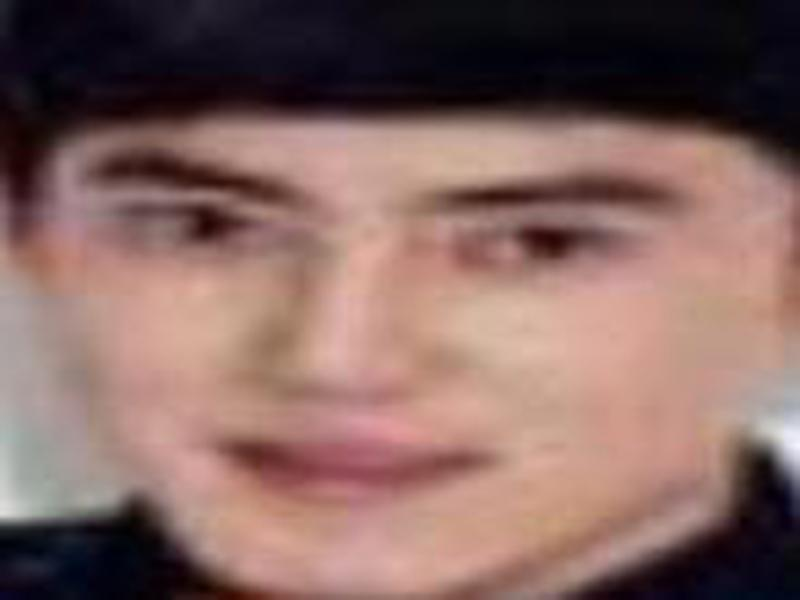without_mask: (19, 106, 772, 595)
